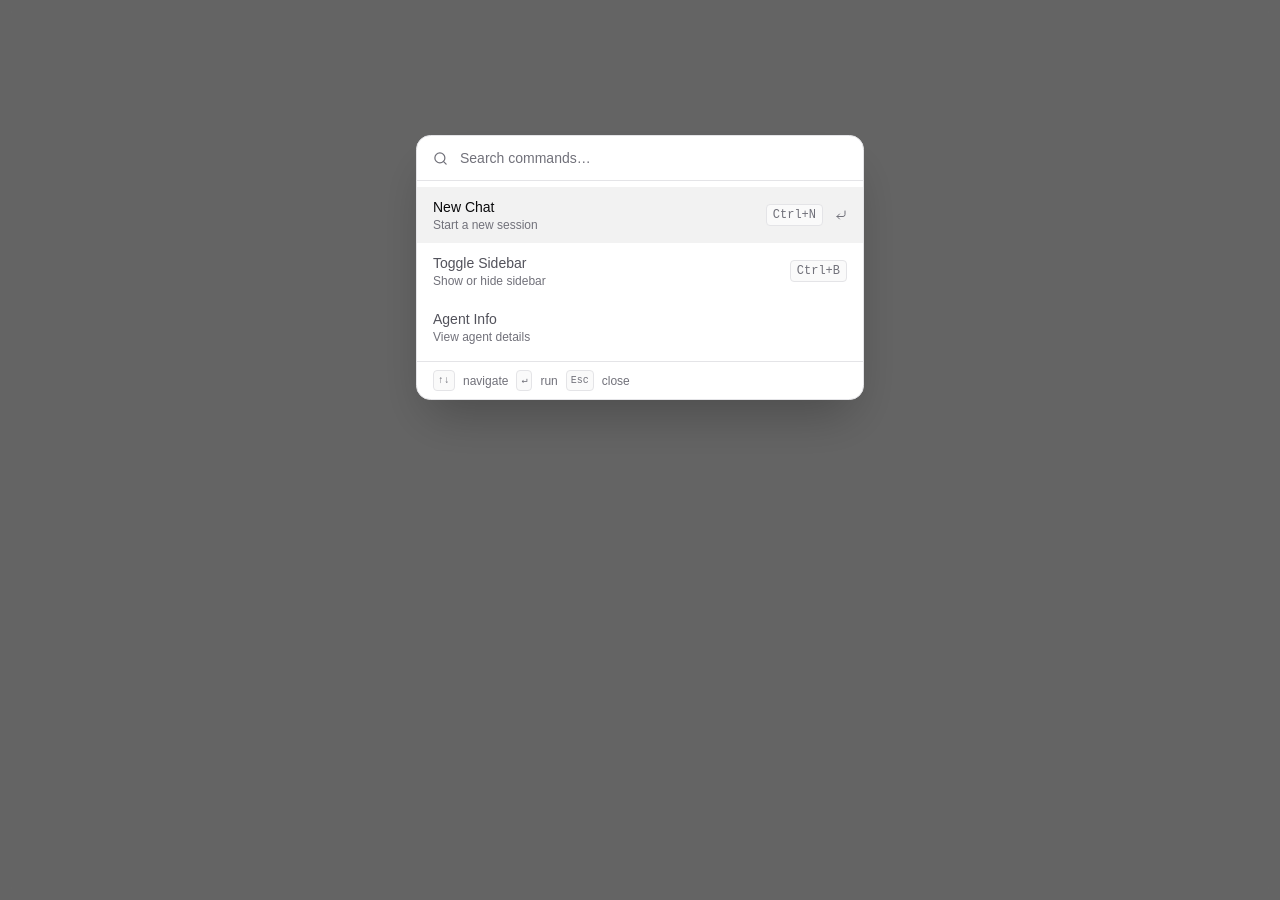
Test: CommandPalette › filters commands by description query
Type "sidebar" into the field with placeholder "Search commands…".
click(654, 158); type("sidebar")  # box [460, 148, 847, 168]
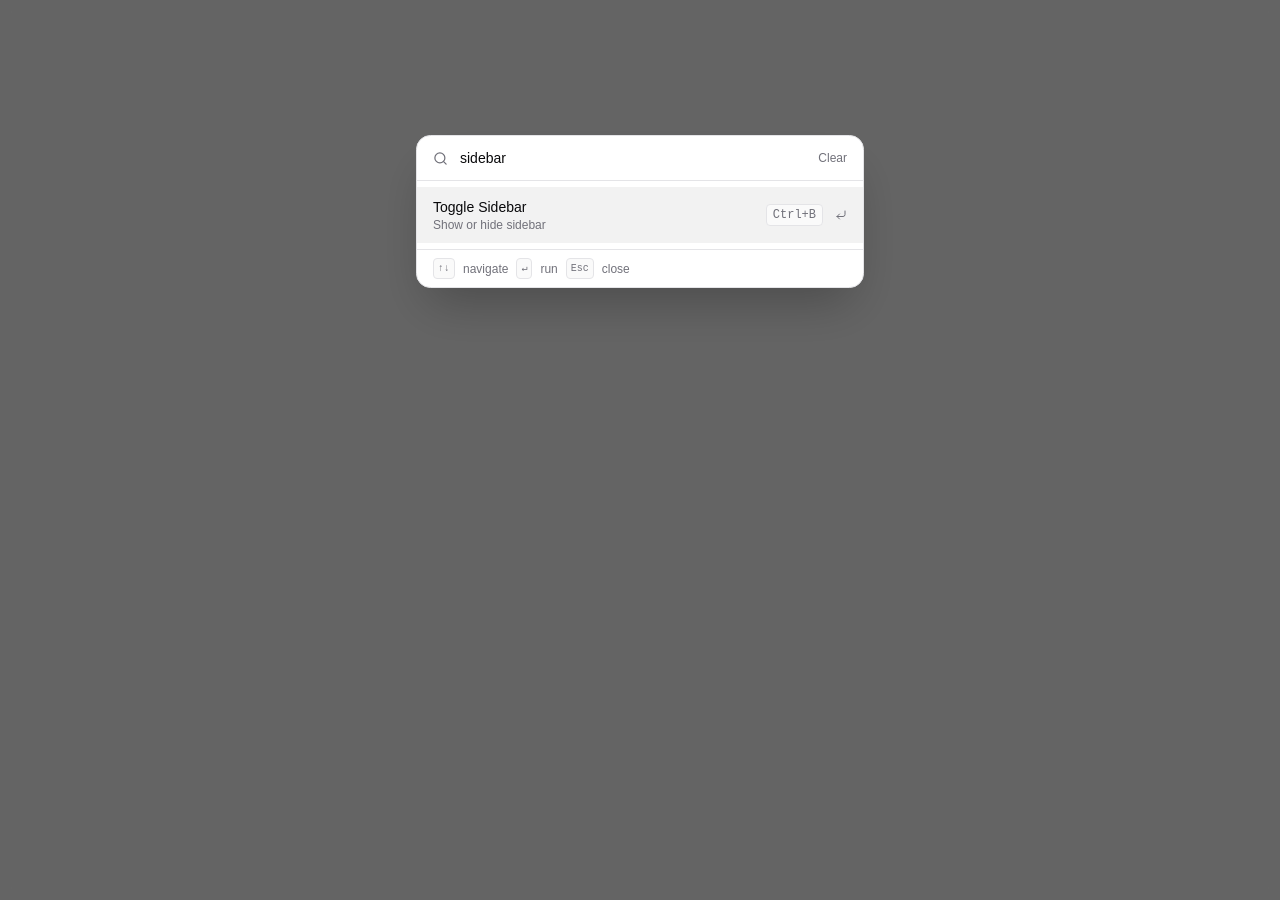
Expected: the text "Toggle Sidebar" is shown, [433, 199, 526, 215]
Expected: the button "New Chat" is gone
